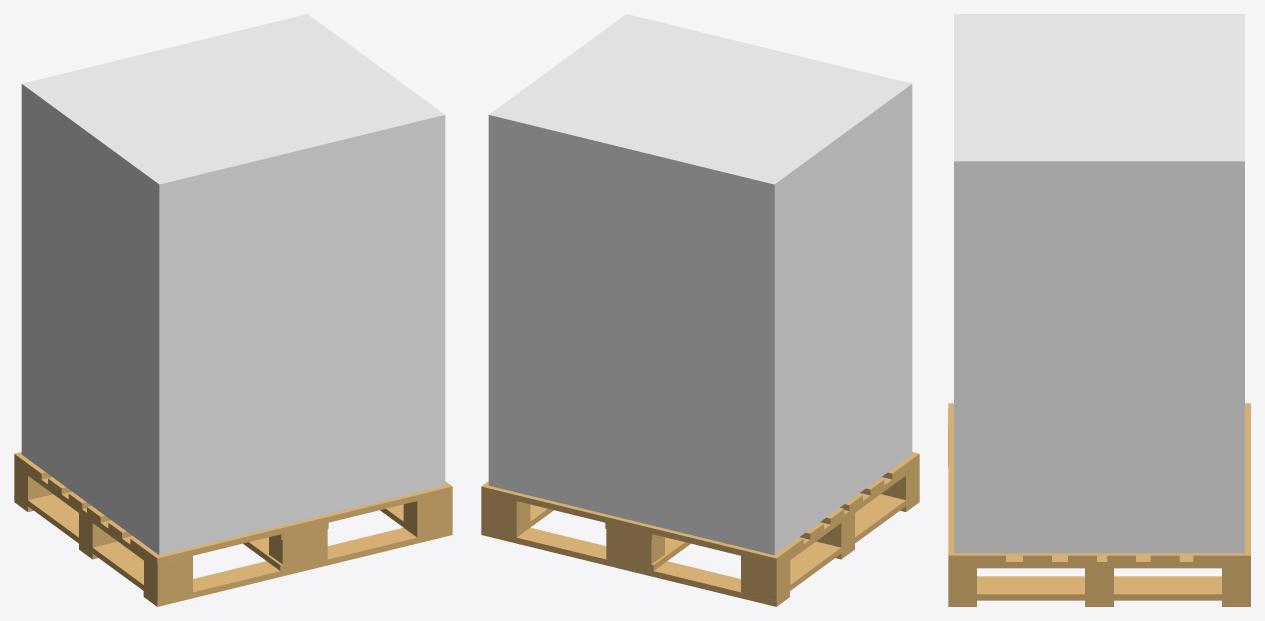
Rendered from Stoles Pallet.dae.
3 views of the same model, side by side, from view 1: azimuth 30°, elevation 25°; view 2: azimuth 150°, elevation 25°; view 3: azimuth 270°, elevation 25° (orthographic). The views are drawn at different scales.
Parts seen in each view (by area): view 1: group_1, group_28, group_26, group_6, group_16, group_19, group_20, group_23, group_18, group_17, group_13; view 2: group_1, group_27 (×2), group_9 (×2), group_26, group_14, group_23, group_18, group_21, group_19, group_17, group_25, group_13; view 3: group_1, group_25 (×2), group_22 (×2), group_6, group_9, group_20, group_21, group_24.
Part boxes in pixels (x1,y1,x2,y2): group_1: [21, 14, 445, 555]; group_28: [157, 527, 452, 606]; group_26: [14, 490, 157, 600]; group_6: [144, 481, 452, 564]; group_16: [269, 529, 327, 564]; group_19: [144, 561, 192, 594]; group_20: [403, 498, 452, 531]; group_23: [14, 460, 157, 570]; group_18: [14, 466, 52, 500]; group_17: [79, 513, 117, 547]; group_13: [243, 537, 303, 570]; group_1: [488, 14, 912, 555]; group_27 (×2): [481, 527, 789, 606]; group_9 (×2): [481, 481, 789, 564]; group_26: [741, 490, 919, 600]; group_14: [606, 529, 664, 564]; group_23: [741, 460, 919, 570]; group_18: [741, 560, 790, 594]; group_21: [481, 498, 530, 531]; group_19: [881, 466, 919, 499]; group_17: [816, 513, 854, 547]; group_25: [481, 504, 553, 537]; group_13: [630, 537, 690, 570]; group_1: [954, 14, 1244, 553]; group_25 (×2): [948, 576, 1250, 600]; group_22 (×2): [948, 553, 1250, 568]; group_6: [948, 403, 976, 561]; group_9: [1222, 403, 1250, 561]; group_20: [948, 568, 976, 594]; group_21: [1222, 568, 1250, 594]; group_24: [1085, 568, 1113, 594].
Size of the model in its own units: 49.21 by 41.35 by 66.77.
